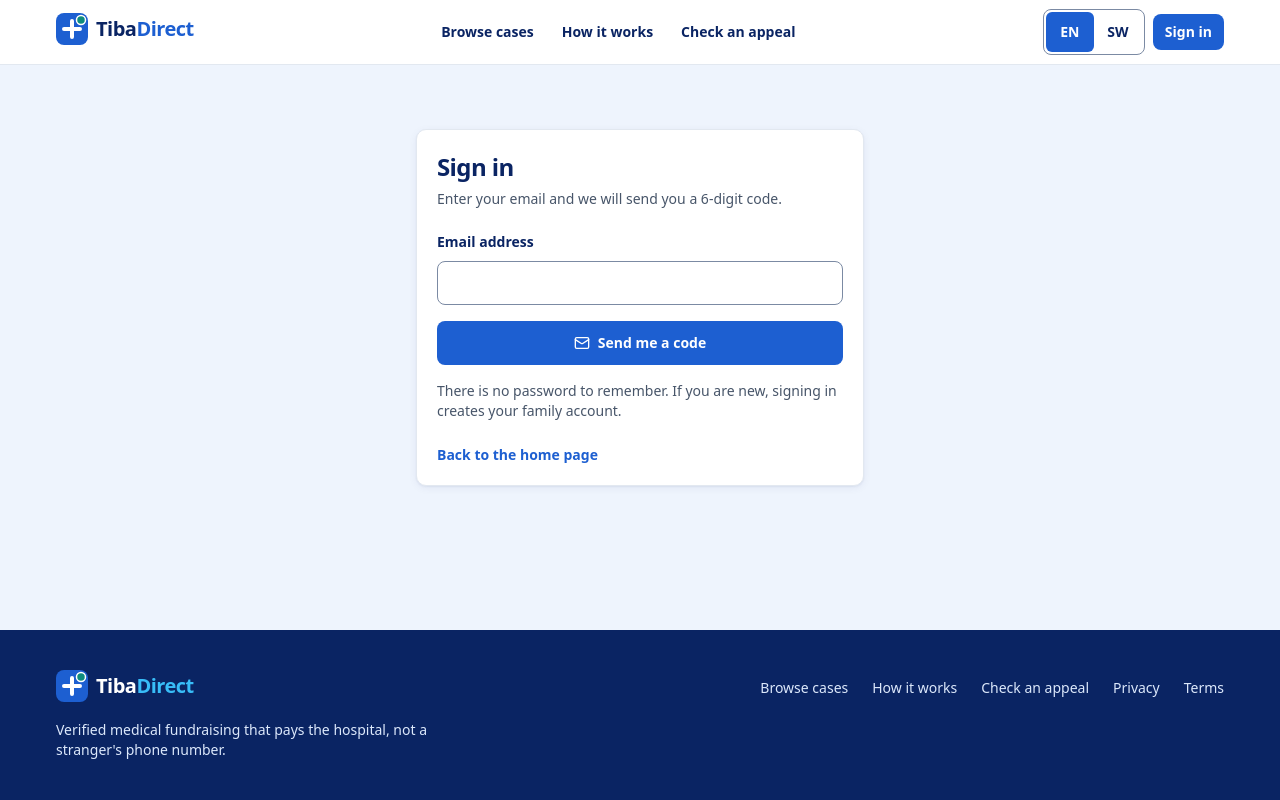
Scenario: email code sign-in › checks the email address before asking the server
The width and height of the screenshot is (1280, 800).
Type "not-an-email" into the field labelled "Email address" at (640, 283), box [437,261,843,305]
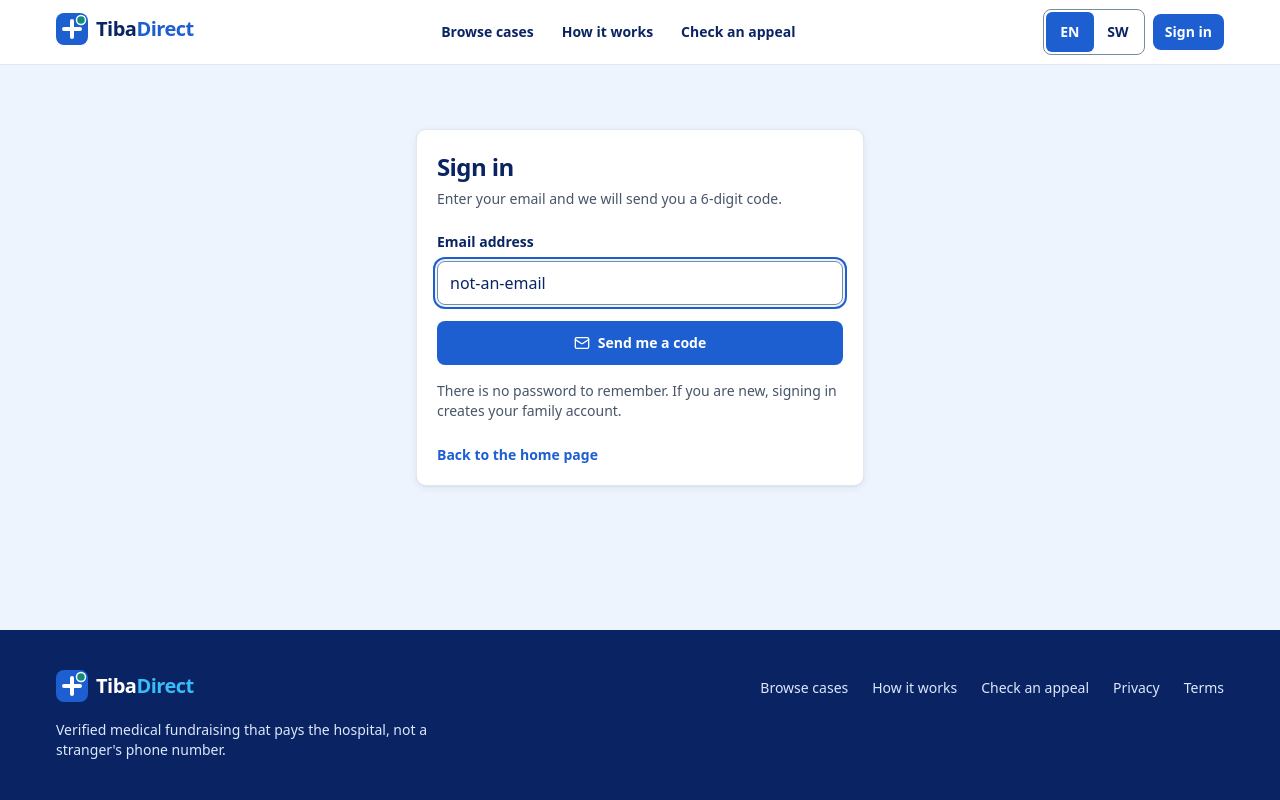
Click the button "Send me a code" at (640, 343), box [437,321,843,365]
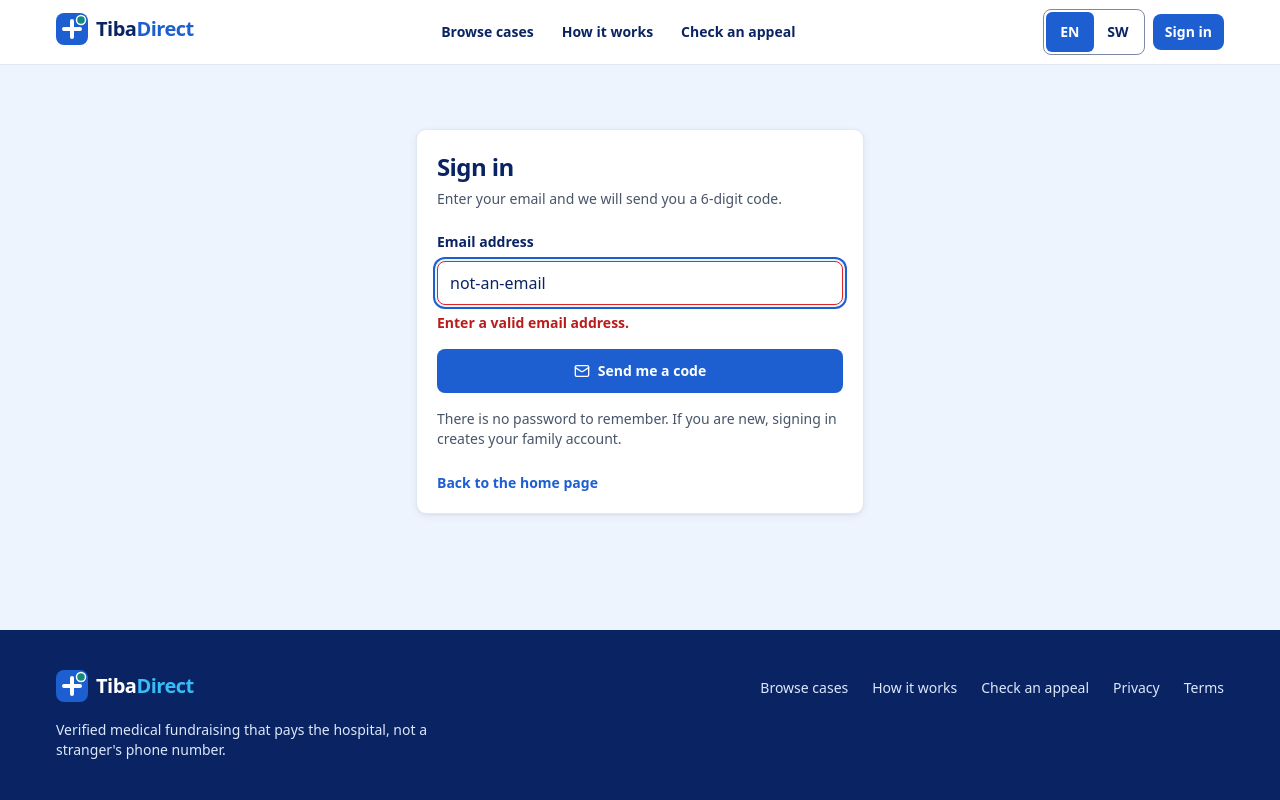
Now the text "Enter a valid email address." is shown, box [437,313,629,332]
